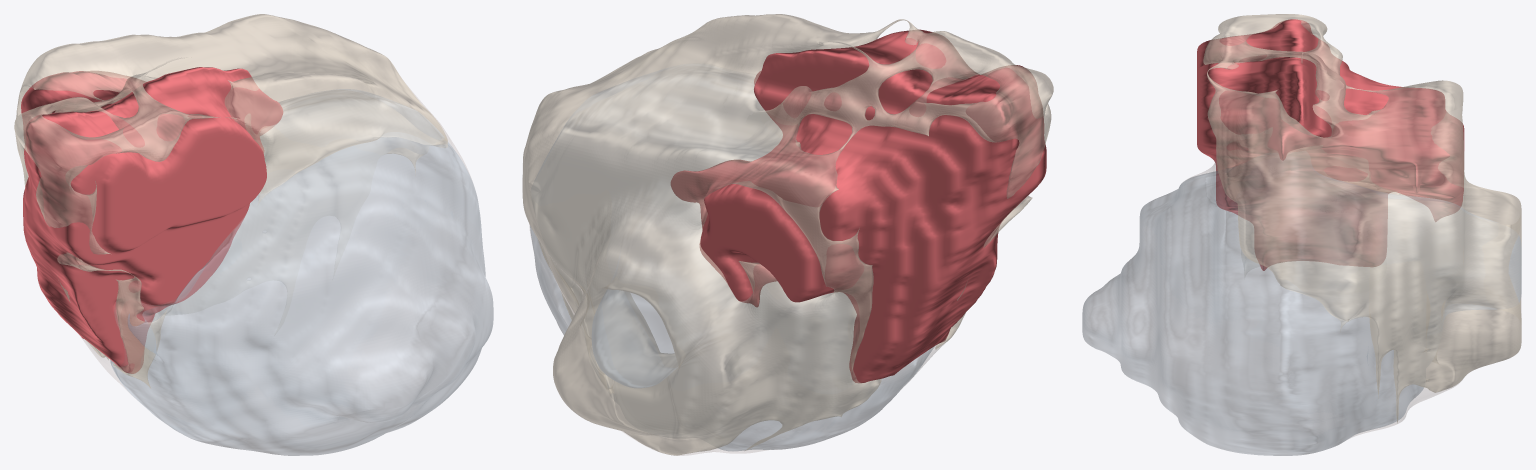
File: model.orientation-test.glb
3 renders of one model, left to right at view 1: azimuth 30°, elevation 25°; view 2: azimuth 150°, elevation 25°; view 3: azimuth 270°, elevation 25°, orthographic. The views are drawn at different scales.
Parts seen in each view (by area): view 1: prostate_gland, transition_zone, lesion_01, peripheral_zone; view 2: prostate_gland, peripheral_zone, lesion_01, transition_zone; view 3: prostate_gland, transition_zone, peripheral_zone, lesion_01.
Part boxes in pixels (x1=…): prostate_gland: x1=14, y1=14, x2=493, y2=455; transition_zone: x1=110, y1=89, x2=493, y2=455; lesion_01: x1=21, y1=67, x2=283, y2=373; peripheral_zone: x1=14, y1=14, x2=447, y2=388; prostate_gland: x1=522, y1=14, x2=1053, y2=455; peripheral_zone: x1=522, y1=14, x2=1053, y2=455; lesion_01: x1=670, y1=29, x2=1046, y2=383; transition_zone: x1=530, y1=64, x2=934, y2=451; prostate_gland: x1=1082, y1=14, x2=1521, y2=455; transition_zone: x1=1082, y1=157, x2=1521, y2=455; peripheral_zone: x1=1203, y1=14, x2=1521, y2=423; lesion_01: x1=1197, y1=19, x2=1464, y2=270.
Bounding box in the file's own units: 0.0673 × 0.0577 × 0.069.
